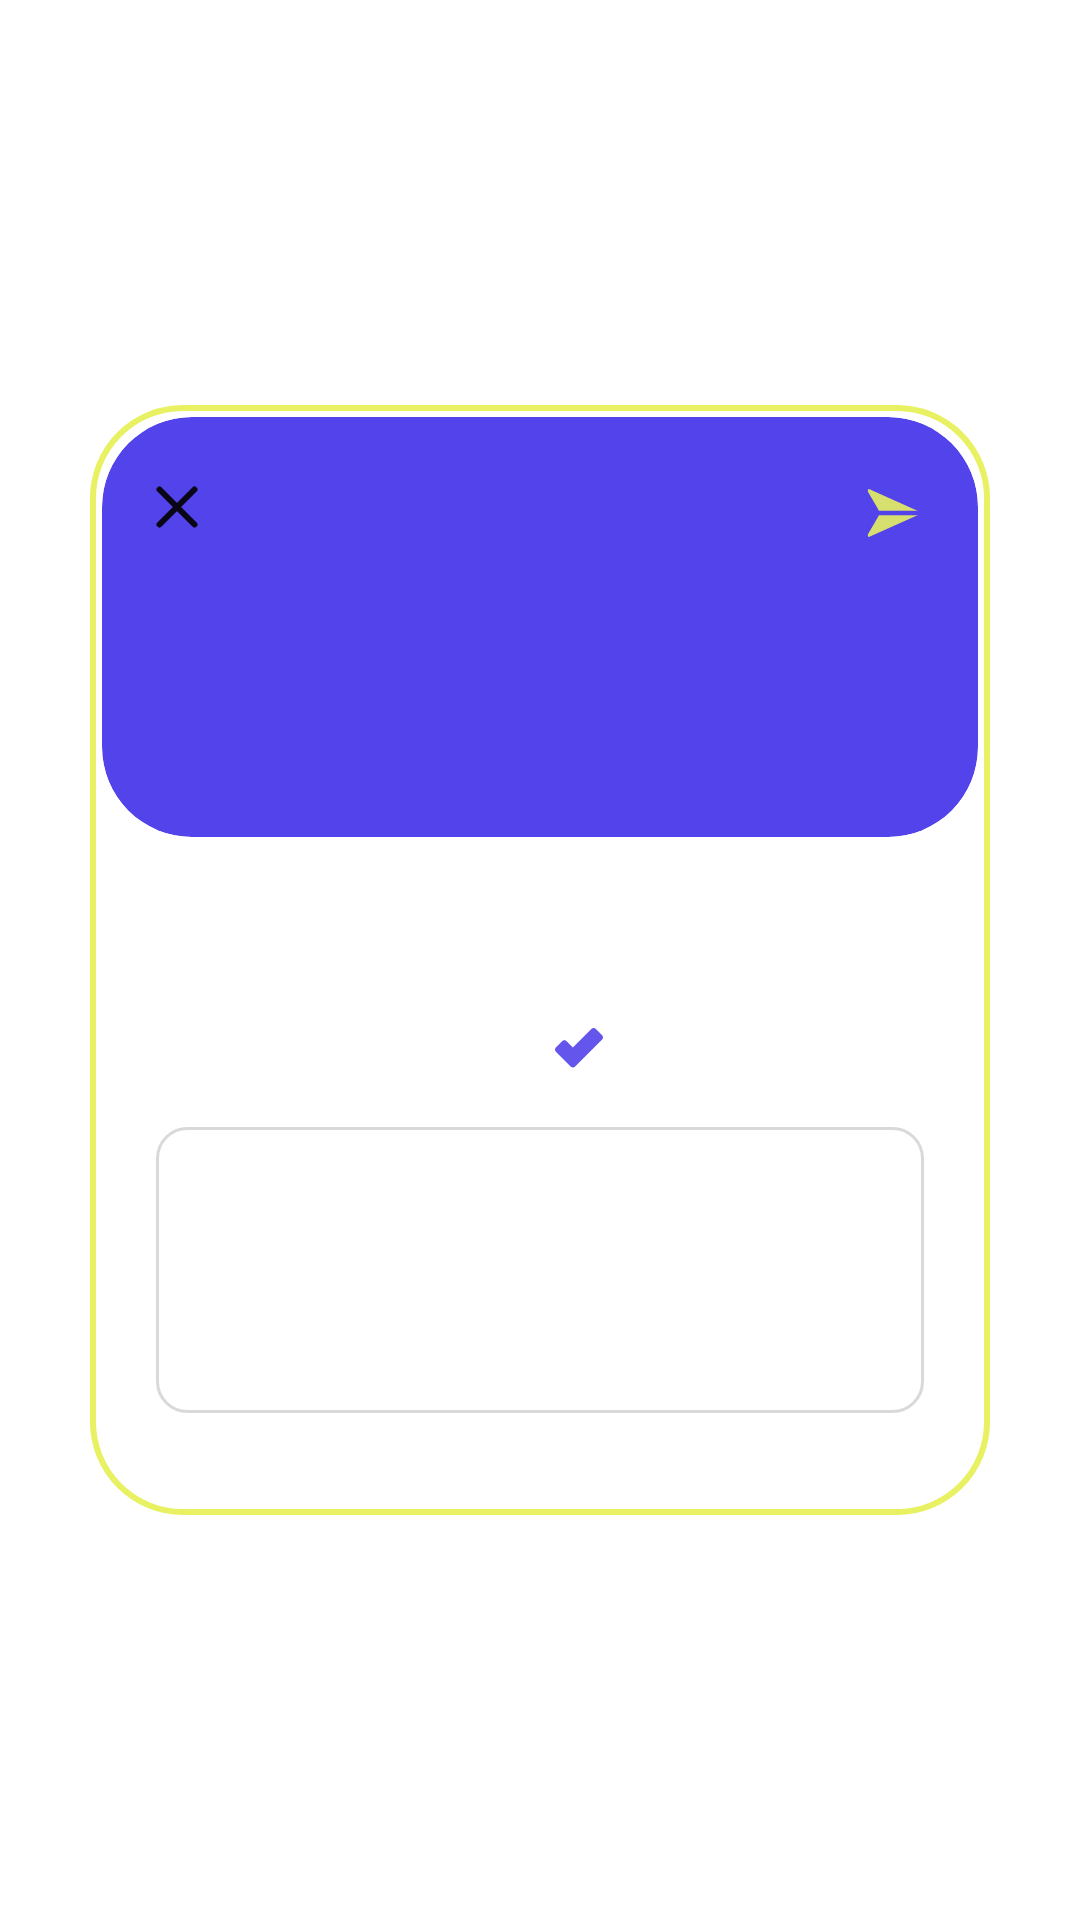

Icons on this 1080*1920 Android screen, each with its box as bbox(x1, y1, x2, y2):
close: bbox(156, 486, 198, 528)
send message: bbox(868, 489, 918, 537)
